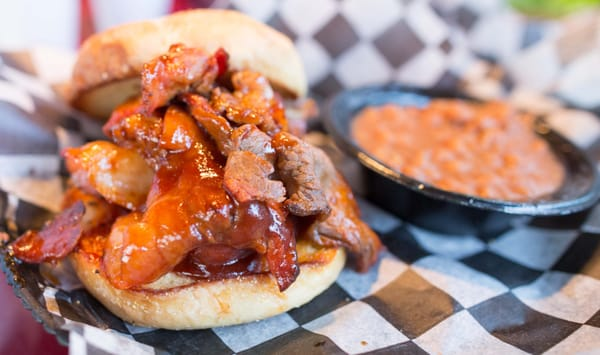soup: (3, 10, 384, 332)
